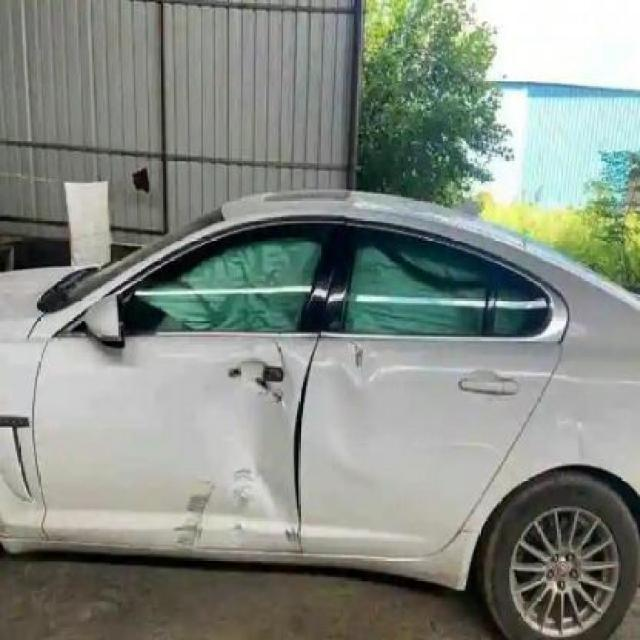dent: (317, 366, 492, 486), (195, 346, 297, 542)
